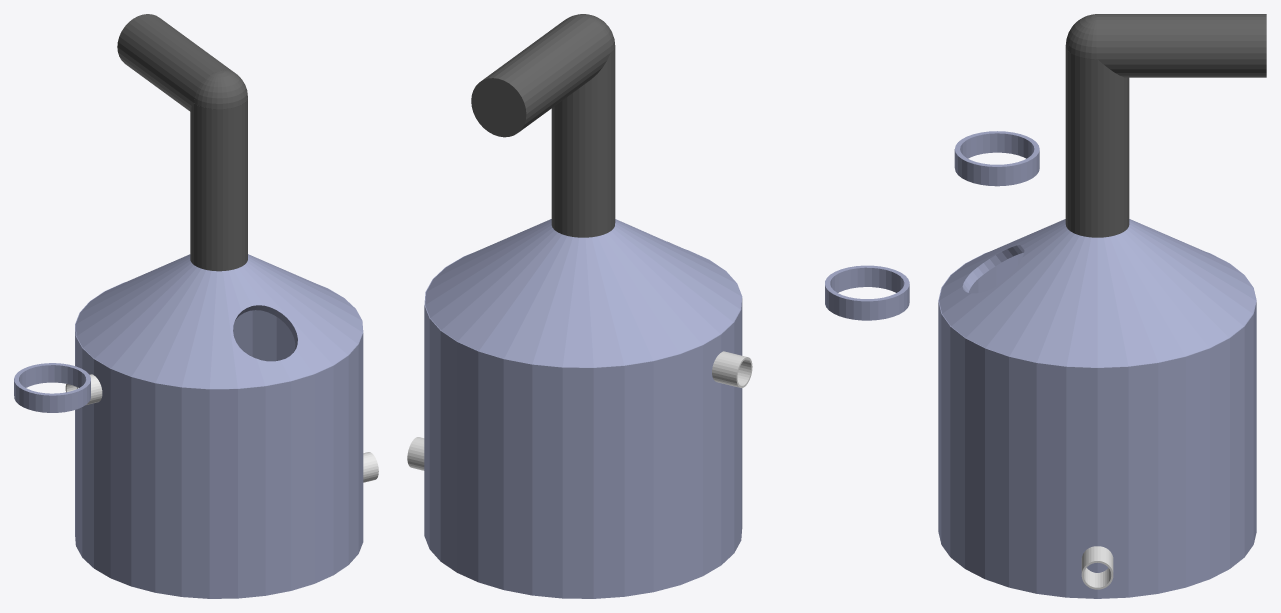
The model's file is Kettle.fbx.
3 views of the same model, side by side, from view 1: azimuth 30°, elevation 25°; view 2: azimuth 150°, elevation 25°; view 3: azimuth 270°, elevation 25° (orthographic). The views are drawn at different scales.
Visible parts, largest first — view 1: MainBody, Lid, extract1, extract2, Cylinder, Sphere; view 2: MainBody, Lid, extract1, extract2, Cylinder, pipein; view 3: MainBody, Lid, extract1, extract2, Cylinder, Sphere, pipeout.
Part boxes in pixels (bbox=[...]): MainBody: bbox=[75, 282, 363, 598]; Lid: bbox=[75, 254, 362, 388]; extract1: bbox=[190, 98, 247, 271]; extract2: bbox=[117, 14, 237, 111]; Cylinder: bbox=[14, 363, 90, 412]; Sphere: bbox=[194, 70, 247, 109]; MainBody: bbox=[424, 249, 742, 598]; Lid: bbox=[425, 219, 741, 367]; extract1: bbox=[551, 45, 615, 237]; extract2: bbox=[471, 16, 611, 137]; Cylinder: bbox=[825, 265, 909, 320]; pipein: bbox=[712, 351, 752, 387]; MainBody: bbox=[938, 252, 1256, 598]; Lid: bbox=[939, 219, 1255, 367]; extract1: bbox=[1065, 46, 1129, 237]; extract2: bbox=[1096, 14, 1266, 77]; Cylinder: bbox=[954, 131, 1039, 186]; Sphere: bbox=[1065, 14, 1096, 59]; pipeout: bbox=[1081, 546, 1113, 589].
Bounding box in the file's own units: 477 × 535 × 309.
